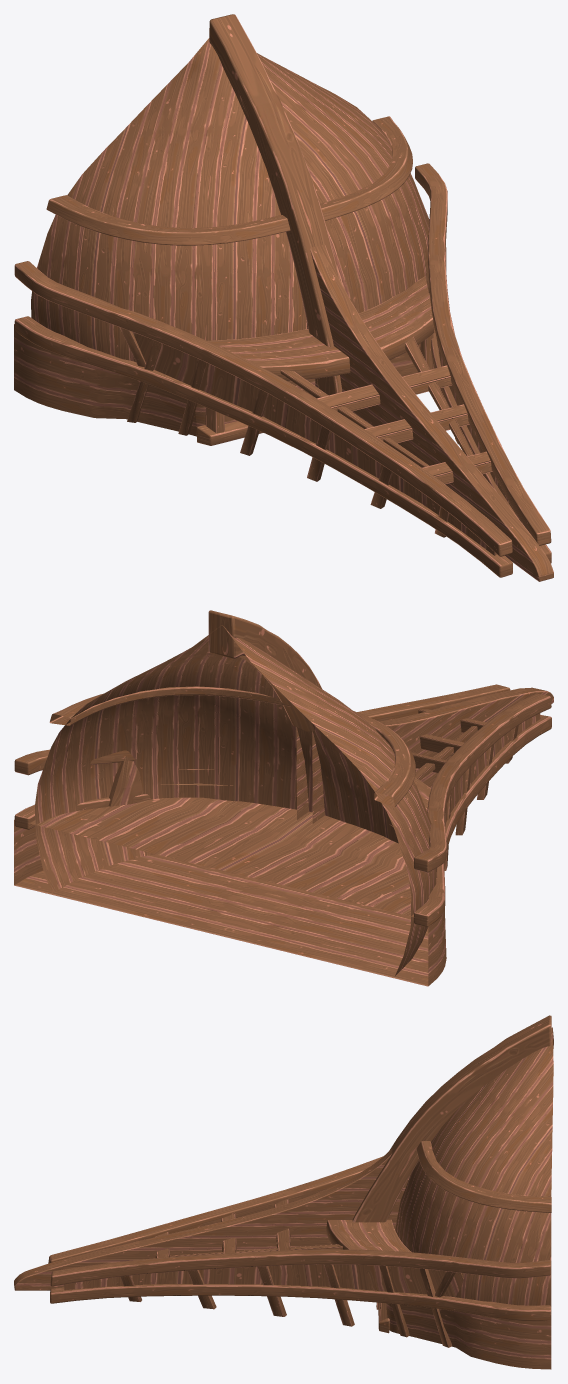
File: SM_Building_ShipPart_03A.fbx
3 renders of one model, top to bottom at view 1: azimuth 30°, elevation 25°; view 2: azimuth 150°, elevation 25°; view 3: azimuth 270°, elevation 25°, orthographic. The views are drawn at different scales.
Visible parts, largest first — view 1: SM_Building_ShipPart_03A_LOD0; view 2: SM_Building_ShipPart_03A_LOD0; view 3: SM_Building_ShipPart_03A_LOD0.
Part boxes in pixels (left/top/right/bottom): SM_Building_ShipPart_03A_LOD0: left=14, top=14, right=553, bottom=581; SM_Building_ShipPart_03A_LOD0: left=14, top=610, right=553, bottom=986; SM_Building_ShipPart_03A_LOD0: left=14, top=1015, right=553, bottom=1369.
Bounding box in the file's own units: 601 × 821 × 460.
Materials: 1 (1 with a texture image).
